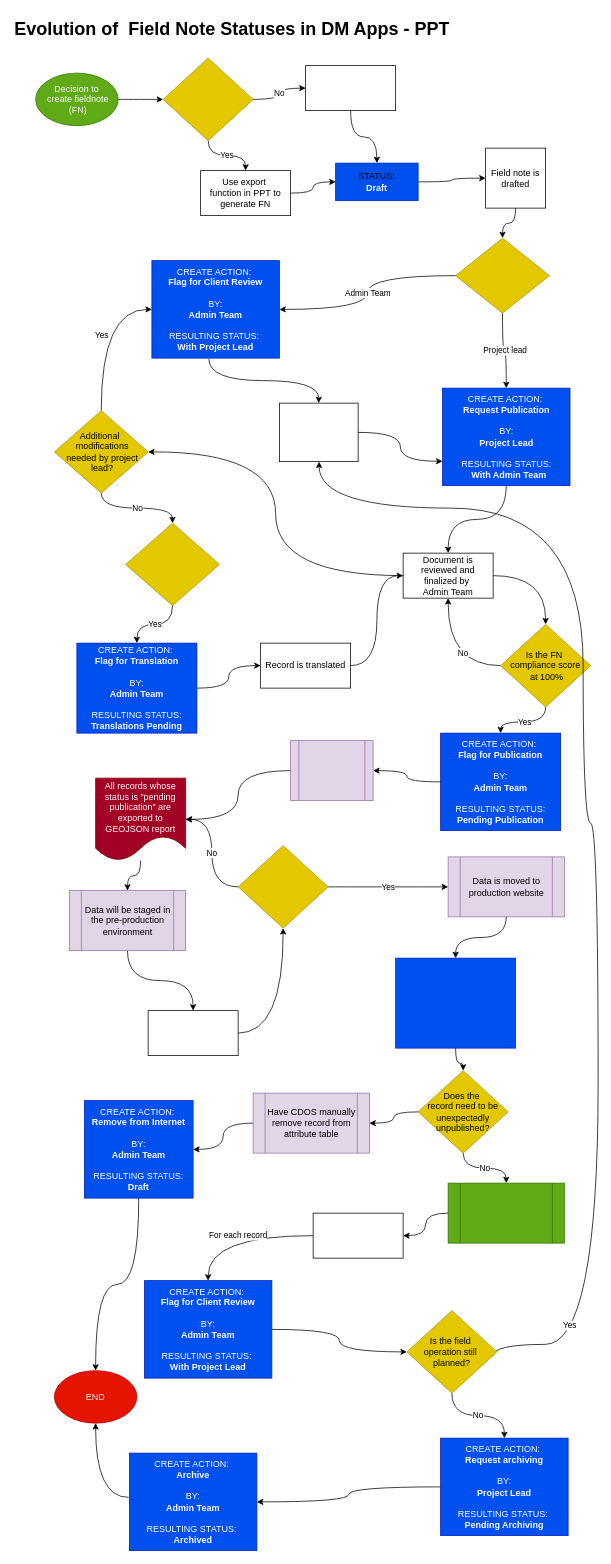
The diagram is 611 pixels wide and 1564 high, and some of its shapes have lost their labels. Each missing label, with the centre of its shape:
"Admin Team goes through all published records" goes at point 357,1235.
"Are professional translation services required?" goes at point 172,564.
"Are we happy with how everything looks?" goes at point 282,886.
"CREATE ACTION: Published on Internet BY: Admin Team RESULTING STATUS: Published" goes at point 455,1002.
"Deadline to submit records to CDOS" goes at point 331,770.
"FN records reviewed by Admin Team" goes at point 192,1033.
"FN was drafted by whom?" goes at point 502,275.
"Generate FN from scratch" goes at point 350,88.
"Is there an existing project in PPT?" goes at point 207,99.
"NEXT ANNUAL CALLOUT CYCLE BEGINS" goes at point 505,1212.
"Project lead reviews document and makes edits, if necessary" goes at point 318,432.
